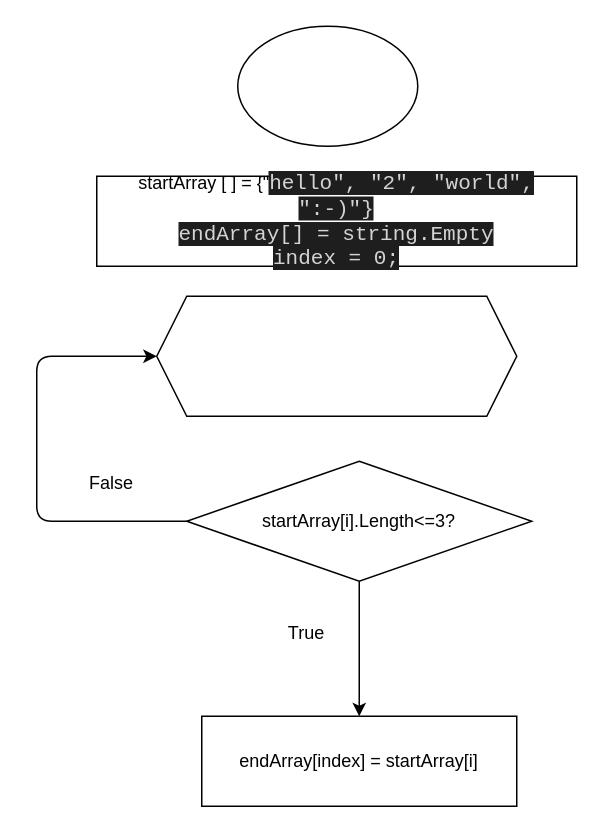
Some shapes in this 603 by 833 pixel diagram are drawn without their labels. The shapes that lost their labels are listed below. From the top down, each one's centre as x and y in pixels, then its label:
the point at 327,85: Start
the point at 336,355: for (i=0; i<startArray.Length; i++)
